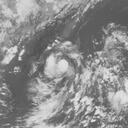cyclone: (25, 39, 84, 104)
